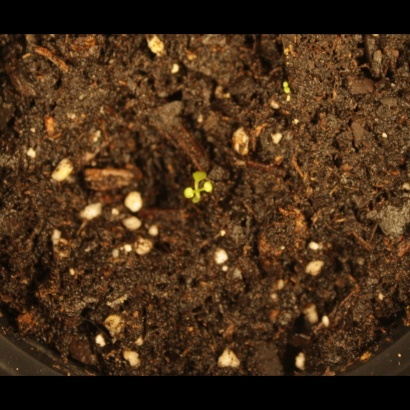leaf: (188, 161, 211, 184), (172, 180, 195, 203), (203, 181, 226, 204)
